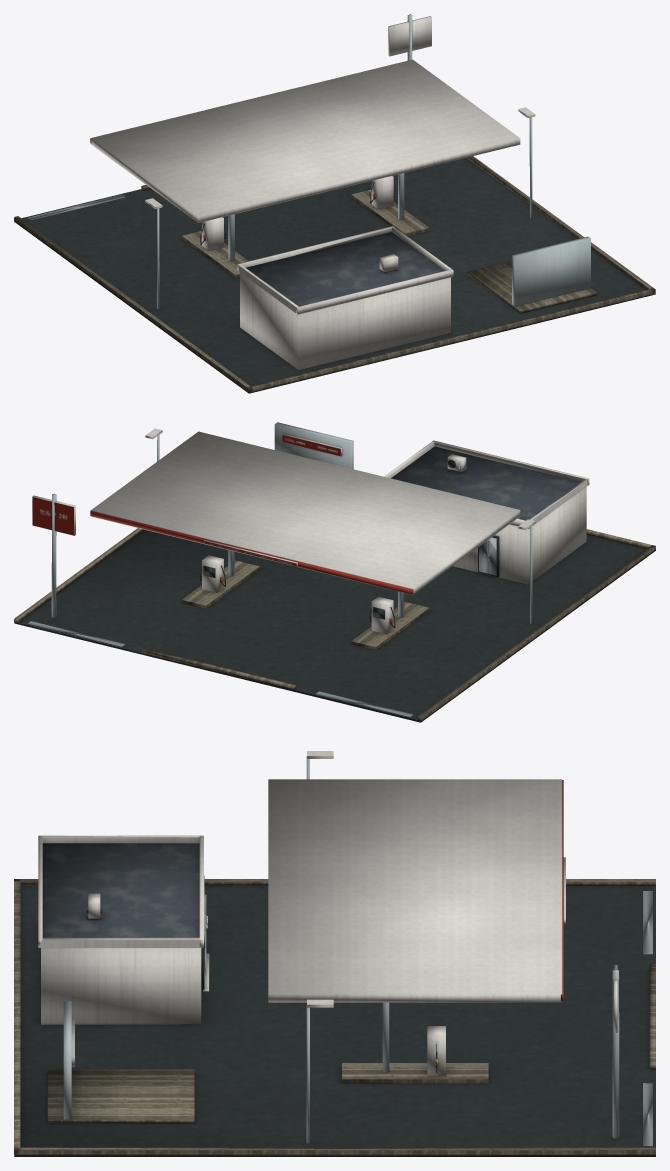
File: fuel_urban_001.lod1.obj
3 views of the same model, one above another, from view 1: azimuth 30°, elevation 25°; view 2: azimuth 150°, elevation 25°; view 3: azimuth 270°, elevation 25° (orthographic). The views are drawn at different scales.
Parts seen in each view (by area): view 1: fuel_urban_001; view 2: fuel_urban_001; view 3: fuel_urban_001.
Part boxes in pixels (x1,y1,x2,y2): fuel_urban_001: (14, 14, 655, 393); fuel_urban_001: (14, 422, 655, 722); fuel_urban_001: (14, 751, 655, 1156).
Size of the model in its own units: 24.01 by 7 by 24.01.
Materials: 1 (1 with a texture image).
